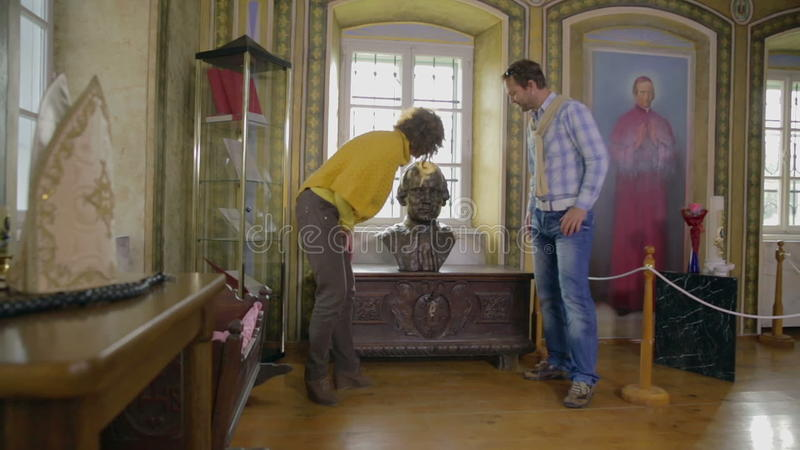person: (301, 112, 443, 406), (501, 59, 612, 404)
